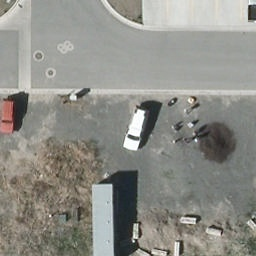car: (120, 105, 151, 151), (1, 100, 15, 135)
